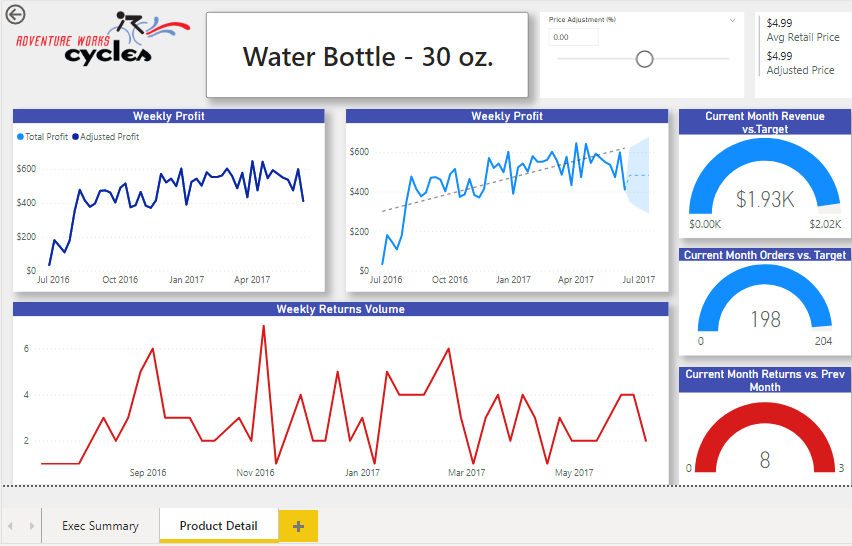

The page's visual inventory and layout, read from the dashboard file:
{"tool":"powerbi","page":{"name":"Product Detail","canvas":[1280,720],"ordinal":1},"visuals":[{"type":"image","box":[16,0,272,112],"z":0},{"type":"lineChart","title":"Weekly Profit","fields":{"Y":["AW_Sales.Total Profit"],"Category":["AW_Calendar_Lookup.Start of Week"]},"box":[512,160,480,272],"z":1000},{"type":"lineChart","title":"Weekly Returns Volume","fields":{"Category":["AW_Calendar_Lookup.Start of Week"],"Y":["AW_Returns.Total Returns"]},"box":[16,448,976,272],"z":2000},{"type":"gauge","title":"Current Month Orders vs. Target","fields":{"Y":["AW_Sales.Total Orders"],"MaxValue":["AW_Sales.Order Target"]},"box":[1008,368,256,160],"z":3000},{"type":"gauge","title":"Current Month Revenue vs.Target","fields":{"Y":["AW_Sales.Total Revenue"],"MaxValue":["AW_Sales.Revenue Target"]},"box":[1008,160,256,192],"z":4000},{"type":"gauge","title":"Current Month Returns vs. Prev Month","fields":{"Y":["AW_Returns.Total Returns"],"MaxValue":["AW_Returns.Prev Month Returns"]},"box":[1008,544,256,176],"z":5000},{"type":"card","fields":{"Values":["Min(AW_Product_Lookup.ProductName)"]},"box":[304,16,480,128],"z":6000},{"type":"actionButton","box":[0,0,100,40],"z":7000},{"type":"slicer","fields":{"Values":["Price Adjustment (%).Price Adjustment (%)"]},"box":[800,16,304,128],"z":8000},{"type":"multiRowCard","fields":{"Values":["AW_Product_Lookup.Avg Retail Price","AW_Product_Lookup.Adjusted Price"]},"box":[1120,16,144,128],"z":9000},{"type":"lineChart","title":"Weekly Profit","fields":{"Y":["AW_Sales.Total Profit","AW_Sales.Adjusted Profit"],"Category":["AW_Calendar_Lookup.Start of Week"]},"box":[16,160,464,272],"z":10000}]}

Visuals, with their boxes on the page's 1280x720 design canvas (x1, y1, x2, y2). These are canvas units, not pixel positions in the 852x546 screenshot, which may show the page scaled, cropped or inside an application window:
image: detection(16, 0, 288, 112)
"Weekly Profit" lineChart: detection(512, 160, 992, 432)
"Weekly Returns Volume" lineChart: detection(16, 448, 992, 720)
"Current Month Orders vs. Target" gauge: detection(1008, 368, 1264, 528)
"Current Month Revenue vs.Target" gauge: detection(1008, 160, 1264, 352)
"Current Month Returns vs. Prev Month" gauge: detection(1008, 544, 1264, 720)
card - Min(AW_Product_Lookup.ProductName): detection(304, 16, 784, 144)
actionButton: detection(0, 0, 100, 40)
slicer - Price Adjustment (%).Price Adjustment (%): detection(800, 16, 1104, 144)
multiRowCard - AW_Product_Lookup.Avg Retail Price x AW_Product_Lookup.Adjusted Price: detection(1120, 16, 1264, 144)
"Weekly Profit" lineChart: detection(16, 160, 480, 432)
